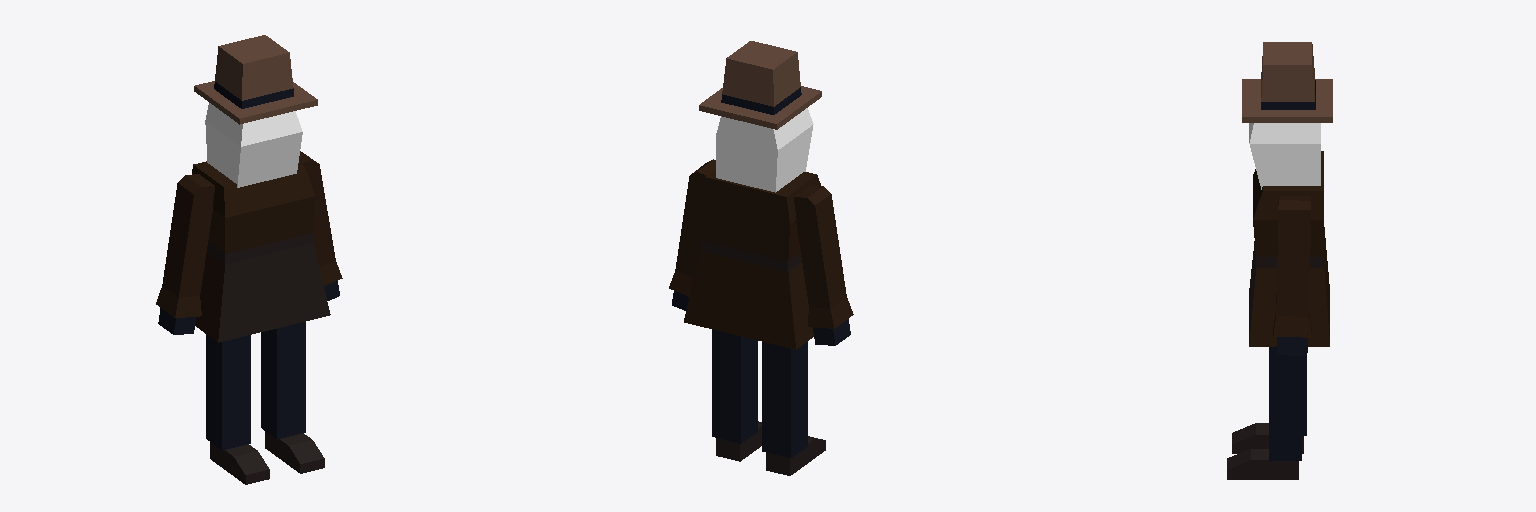
File: 3002_Thiago_Adriano_Rorschach.obj
3 views of the same model, side by side, from view 1: azimuth 30°, elevation 25°; view 2: azimuth 150°, elevation 25°; view 3: azimuth 270°, elevation 25° (orthographic).
Visible parts, largest first — view 1: Mesh4 Model, Mesh1 Group1 Model, Mesh3 Model, Mesh5 Model, Mesh2 Group1 Model, Mesh6 Model; view 2: Mesh4 Model, Mesh1 Group1 Model, Mesh5 Model, Mesh3 Model, Mesh2 Group1 Model, Mesh6 Model; view 3: Mesh4 Model, Mesh1 Group1 Model, Mesh6 Model, Mesh2 Group1 Model, Mesh3 Model.
Part boxes in pixels (x1,y1,x2,y2): Mesh4 Model: (192,161,330,473); Mesh1 Group1 Model: (194,35,317,124); Mesh3 Model: (206,334,269,484); Mesh5 Model: (156,174,214,334); Mesh2 Group1 Model: (205,103,302,187); Mesh6 Model: (299,151,342,300); Mesh4 Model: (684,170,820,461); Mesh1 Group1 Model: (699,41,821,129); Mesh5 Model: (794,185,853,345); Mesh3 Model: (762,342,825,475); Mesh2 Group1 Model: (716,108,813,192); Mesh6 Model: (669,159,715,310); Mesh4 Model: (1227,151,1329,479); Mesh1 Group1 Model: (1242,42,1332,122); Mesh6 Model: (1273,196,1311,355); Mesh2 Group1 Model: (1249,123,1320,189); Mesh3 Model: (1232,356,1306,453).
Bounding box in the file's own units: 124 × 290 × 67.9.